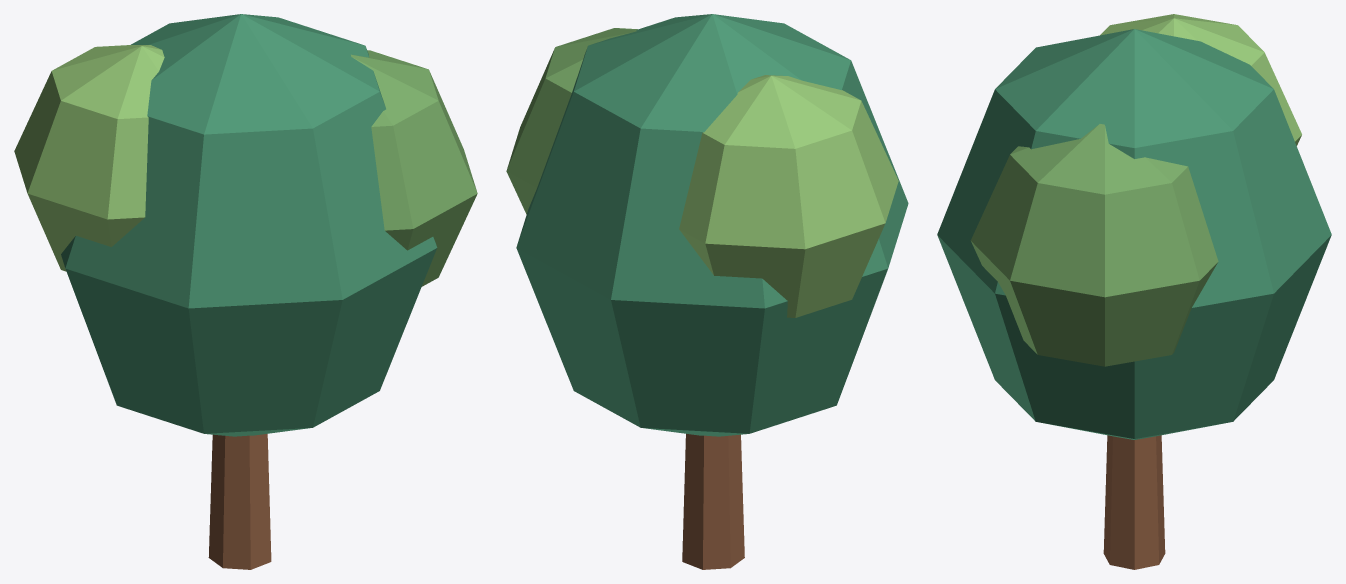
Rendered from tree.glb.
3 renders of one model, left to right at view 1: azimuth 30°, elevation 25°; view 2: azimuth 150°, elevation 25°; view 3: azimuth 270°, elevation 25°, orthographic. The views are drawn at different scales.
Visible parts, largest first — view 1: tree; view 2: tree; view 3: tree.
Part boxes in pixels (x1,y1,x2,y2): tree: (14,14,477,569); tree: (506,14,908,569); tree: (937,14,1331,569).
Size of the model in its own units: 2.28 by 2.95 by 2.
